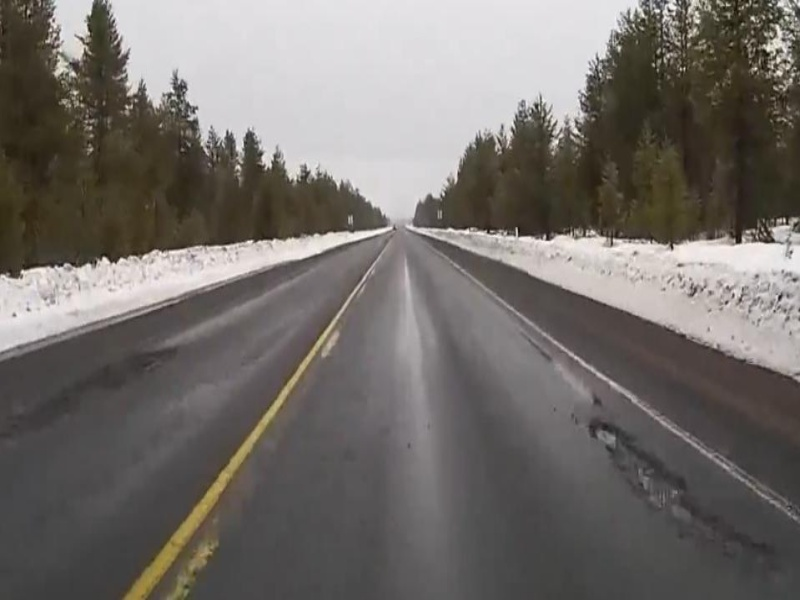pothole: (583, 414, 700, 533)
